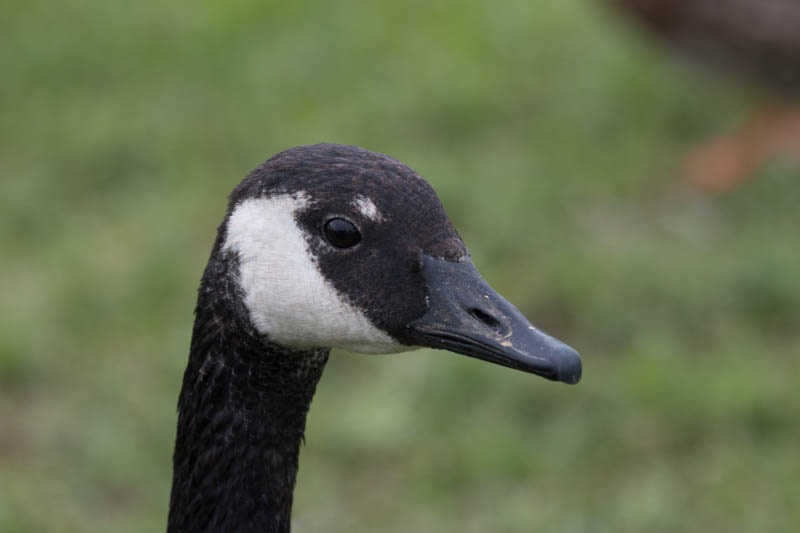goose-head: (198, 143, 584, 385)
